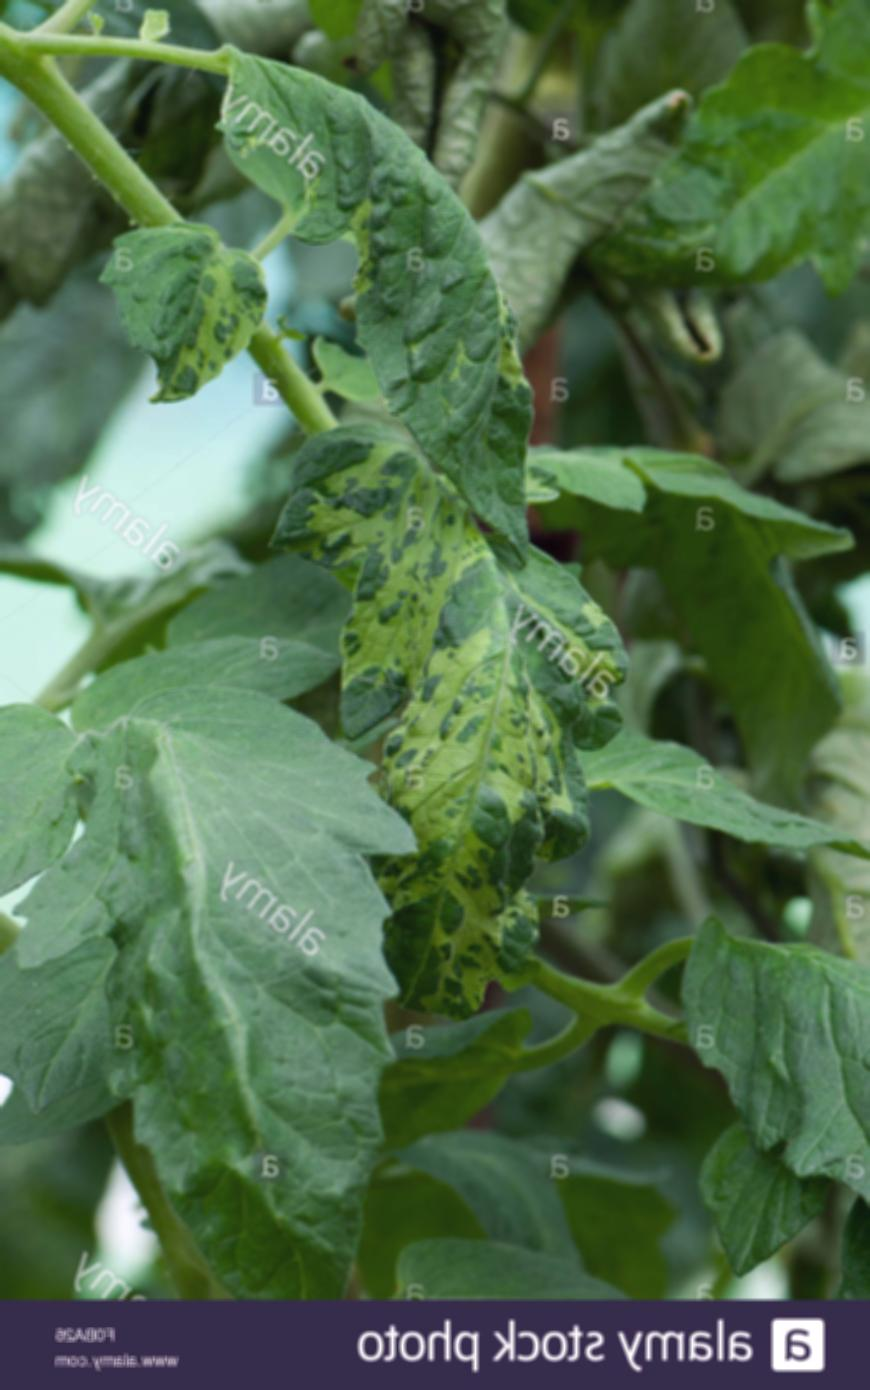Tomato leaf mosaic virus: (36, 658, 421, 1246), (305, 370, 624, 1026), (219, 42, 570, 542), (108, 231, 300, 421)
